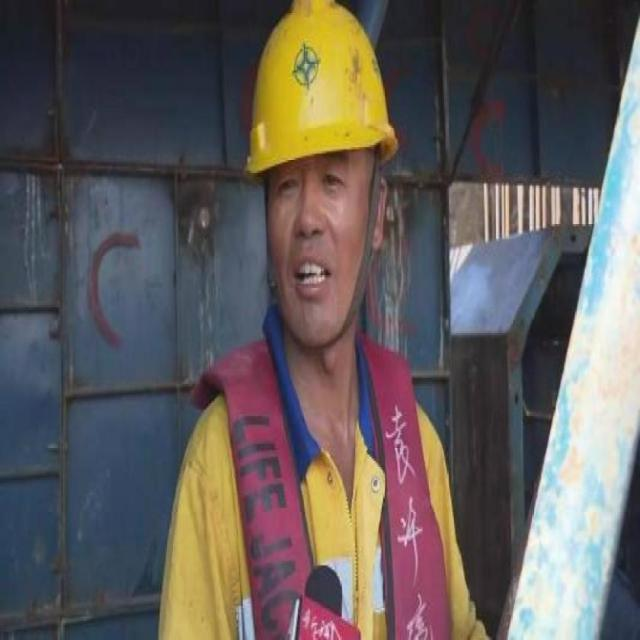con_casco: (234, 2, 406, 350)
